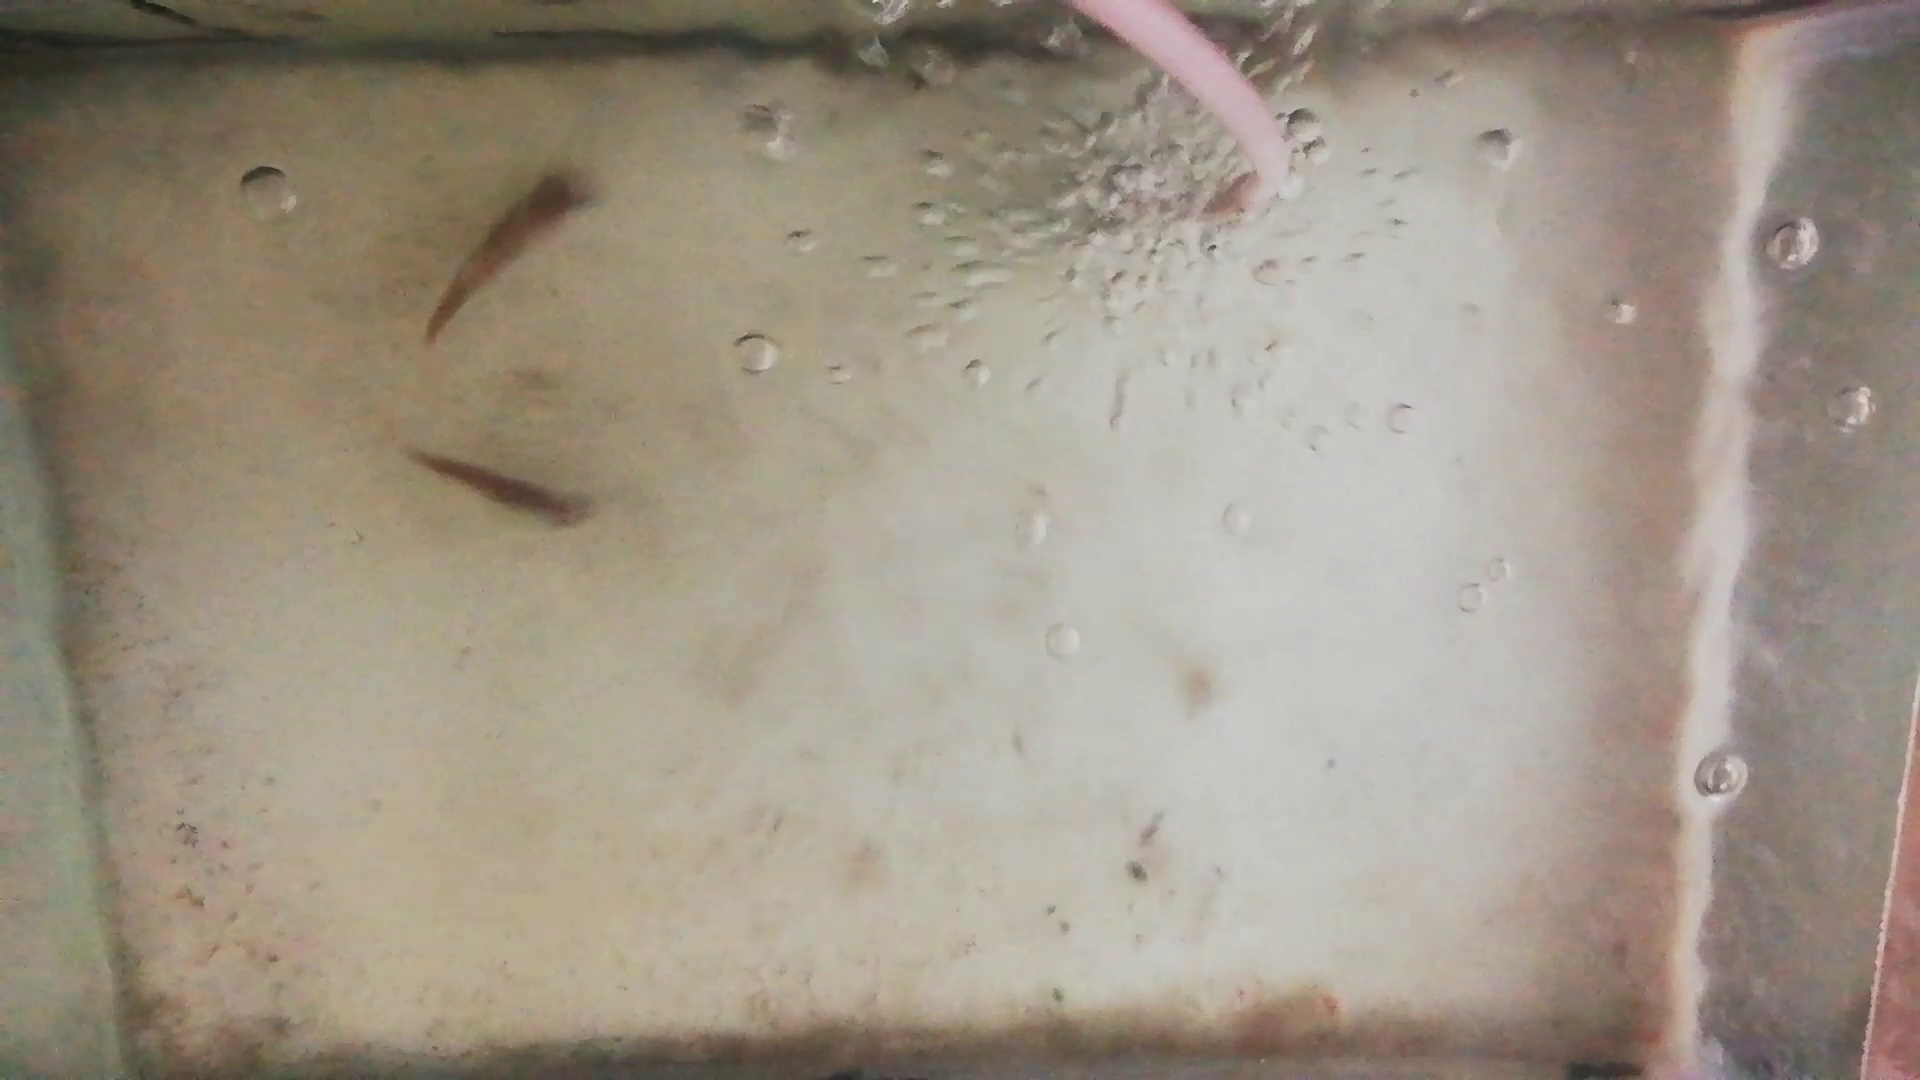fish: (419, 164, 595, 342), (404, 448, 596, 533)
